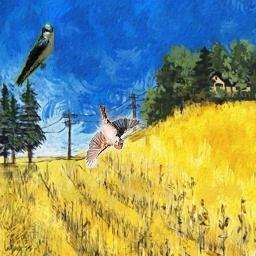Sparrow: (85, 106, 147, 169)
Swallow: (14, 23, 55, 88)
